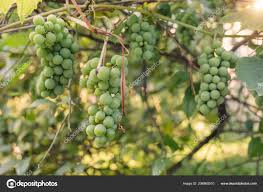grapes: (86, 60, 132, 152), (30, 13, 79, 97), (200, 42, 231, 117), (126, 15, 161, 64)
